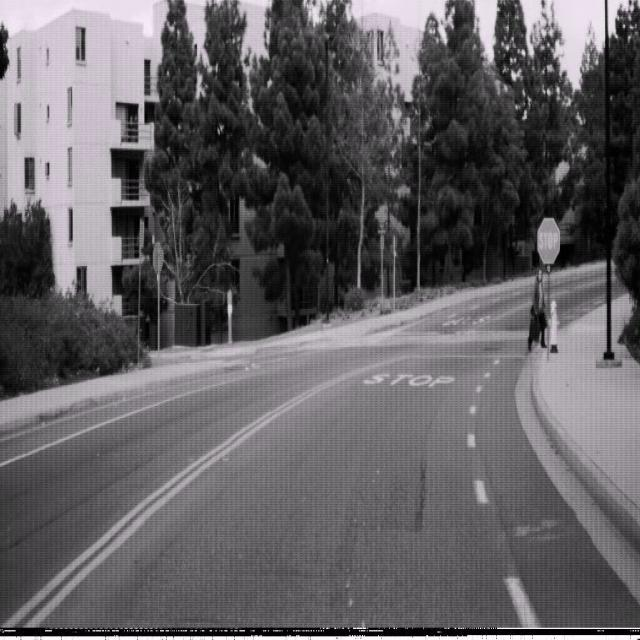stop_sign: (537, 217, 560, 265)
